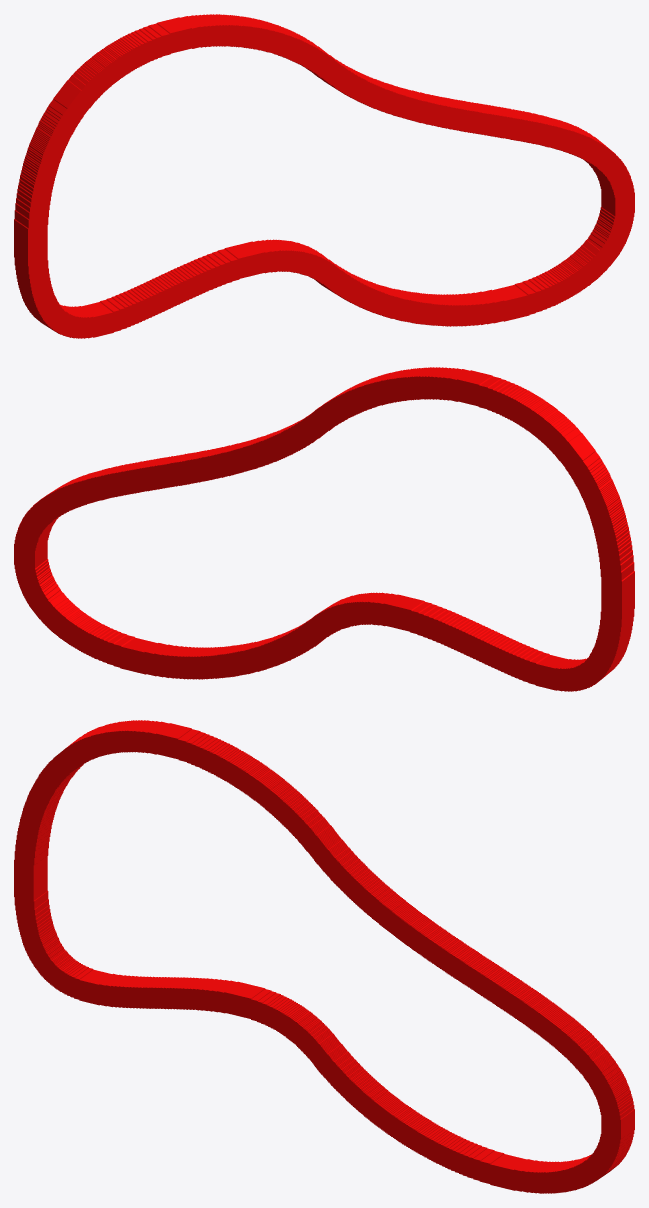
File: red_line_circuit.dae
The picture shows the model from 3 angles, top to bottom: view 1: azimuth 30°, elevation 25°; view 2: azimuth 150°, elevation 25°; view 3: azimuth 330°, elevation 25°; orthographic projection.
Parts seen in each view (by area): view 1: node_00c6a025_e879_4a61_aff1_1f1b1db92ca4_mesh0; view 2: node_89d9449c_5f5e_494d_8ab4_18f8f52da55a_mesh0, node_00c6a025_e879_4a61_aff1_1f1b1db92ca4_mesh0; view 3: node_00c6a025_e879_4a61_aff1_1f1b1db92ca4_mesh0.
Part boxes in pixels (x1,y1,x2,y2): node_00c6a025_e879_4a61_aff1_1f1b1db92ca4_mesh0: (14, 14, 634, 338); node_89d9449c_5f5e_494d_8ab4_18f8f52da55a_mesh0: (14, 376, 621, 691); node_00c6a025_e879_4a61_aff1_1f1b1db92ca4_mesh0: (15, 367, 634, 691); node_00c6a025_e879_4a61_aff1_1f1b1db92ca4_mesh0: (14, 720, 634, 1193).
Bounding box in the file's own units: 77.58 × 45.25 × 2.98.
